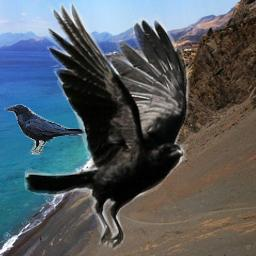Crow: (24, 3, 191, 254), (4, 104, 85, 155)
